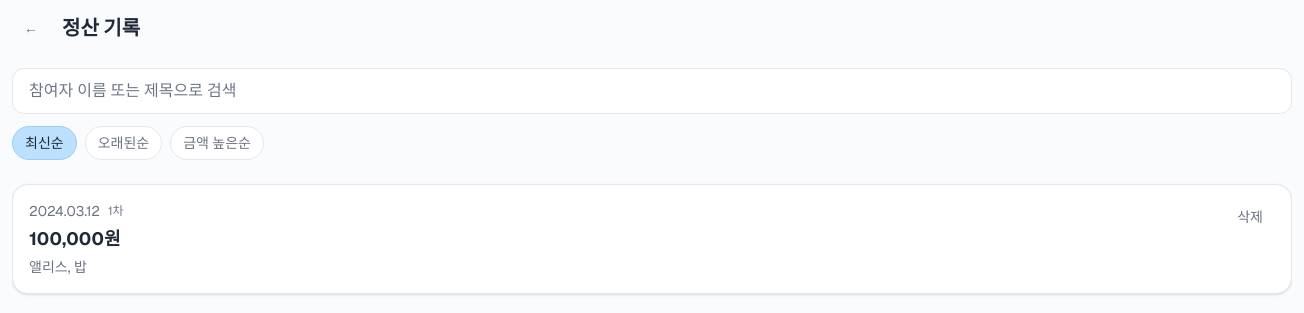
Scenario: HistoryPage - 검색 › 검색 결과가 없으면 빈 검색 결과 메시지를 표시
Type "존재하지않는이름" into the field named "정산 기록 검색". click: (652, 91)
box: x1=12 y1=68 x2=1292 y2=114
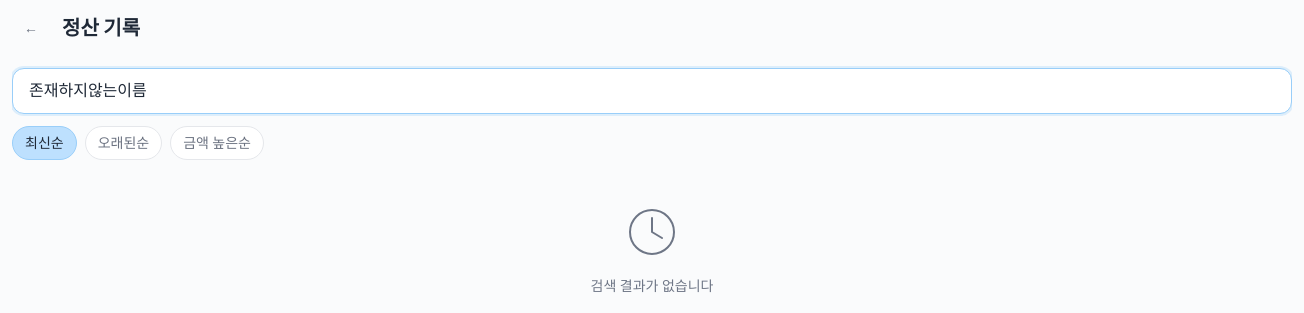
Now the text "검색 결과가 없습니다" is shown, box x1=590 y1=276 x2=713 y2=296
